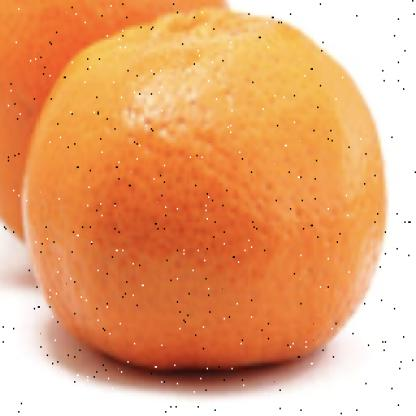orange: (6, 4, 390, 382)
